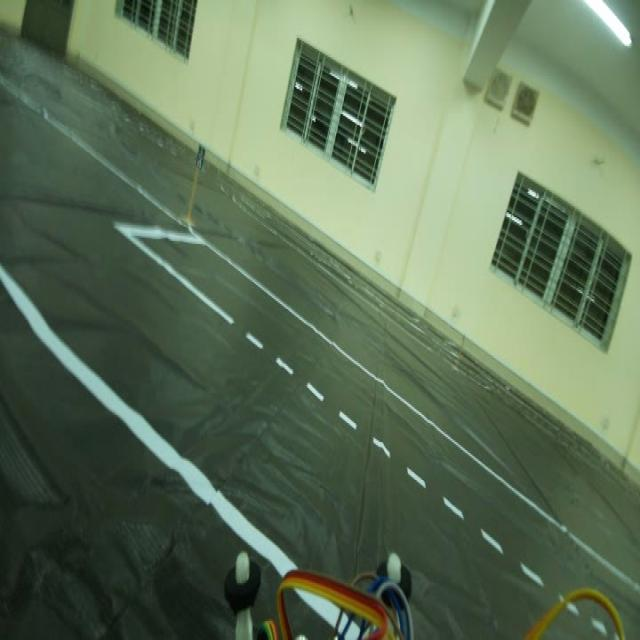highway_exit: (196, 138, 204, 172)
